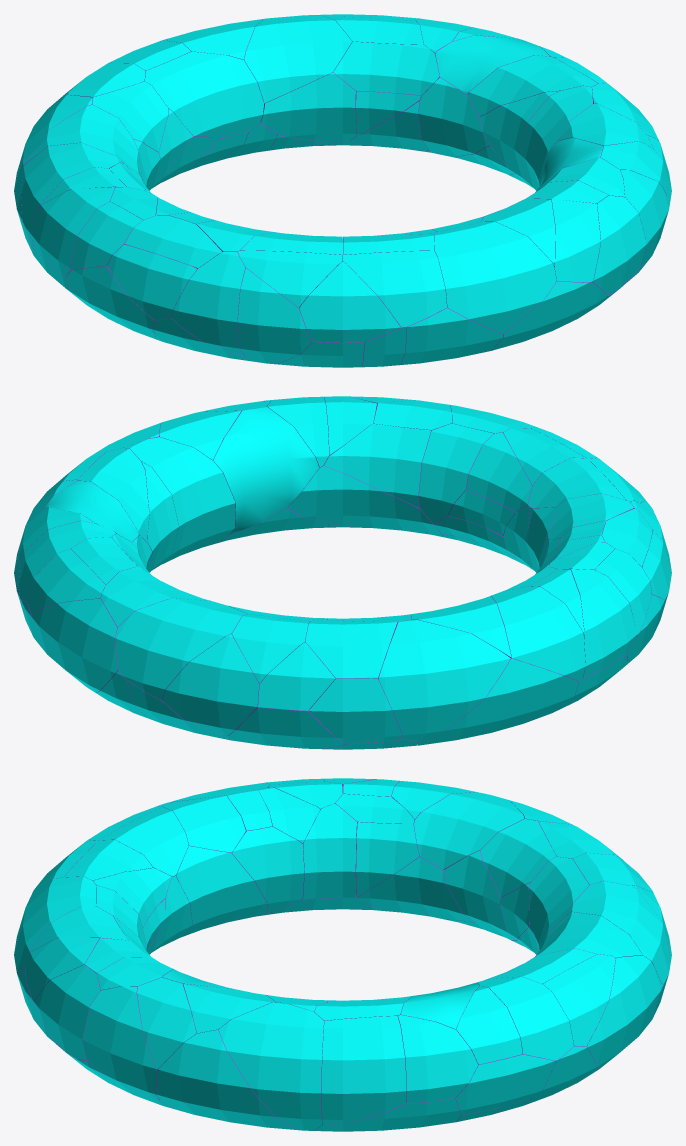
3 views of the same model, one above another, from view 1: azimuth 30°, elevation 25°; view 2: azimuth 150°, elevation 25°; view 3: azimuth 270°, elevation 25° (orthographic).
Parts seen in each view (by area): view 1: Torus_cell.010, Torus_cell.028, Torus_cell.086, Torus_cell.047, Torus_cell.075, Torus_cell.087, Torus_cell.019, Torus_cell.090, Torus_cell.071, Torus_cell.061, Torus_cell.045, Torus_cell.034 (+45 smaller); view 2: Torus_cell.065, Torus_cell.026, Torus_cell.046, Torus_cell.009, Torus_cell.016, Torus_cell.006, Torus_cell.058, Torus_cell.080, Torus_cell.072, Torus_cell.020, Torus_cell.039, Torus_cell.015 (+42 smaller); view 3: Torus_cell.069, Torus_cell.025, Torus_cell.048, Torus_cell.001, Torus_cell.049, Torus_cell.083, Torus_cell.057, Torus_cell.080, Torus_cell.051, Torus_cell.053, Torus_cell.046, Torus_cell.017 (+43 smaller).
Part boxes in pixels (x1,y1,x2,y2): Torus_cell.010: (433, 221, 556, 333); Torus_cell.028: (144, 51, 264, 137); Torus_cell.086: (244, 15, 352, 103); Torus_cell.047: (343, 250, 446, 327); Torus_cell.075: (299, 261, 400, 342); Torus_cell.087: (171, 252, 245, 356); Torus_cell.019: (260, 72, 356, 143); Torus_cell.090: (237, 268, 312, 364); Torus_cell.071: (333, 41, 439, 95); Torus_cell.061: (107, 244, 197, 320); Torus_cell.045: (418, 76, 489, 157); Torus_cell.034: (468, 55, 597, 116); Torus_cell.065: (378, 620, 510, 741); Torus_cell.026: (213, 407, 319, 536); Torus_cell.046: (115, 598, 247, 700); Torus_cell.009: (123, 437, 235, 568); Torus_cell.016: (162, 634, 259, 735); Torus_cell.006: (491, 586, 585, 681); Torus_cell.058: (417, 658, 578, 745); Torus_cell.080: (31, 598, 118, 692); Torus_cell.072: (288, 465, 442, 536); Torus_cell.020: (324, 424, 431, 508); Torus_cell.039: (570, 569, 637, 677); Torus_cell.015: (309, 678, 403, 743); Torus_cell.069: (218, 1002, 324, 1130); Torus_cell.025: (321, 1016, 406, 1124); Torus_cell.048: (155, 1029, 295, 1129); Torus_cell.001: (82, 986, 160, 1100); Torus_cell.049: (414, 792, 524, 869); Torus_cell.083: (176, 846, 267, 936); Torus_cell.057: (398, 1015, 477, 1103); Torus_cell.080: (586, 955, 661, 1068); Torus_cell.051: (302, 803, 357, 899); Torus_cell.053: (477, 976, 573, 1060); Torus_cell.046: (567, 881, 670, 984); Torus_cell.017: (232, 826, 304, 911).
Bounding box in the file's own units: 4.12 × 0.8233 × 4.12.
